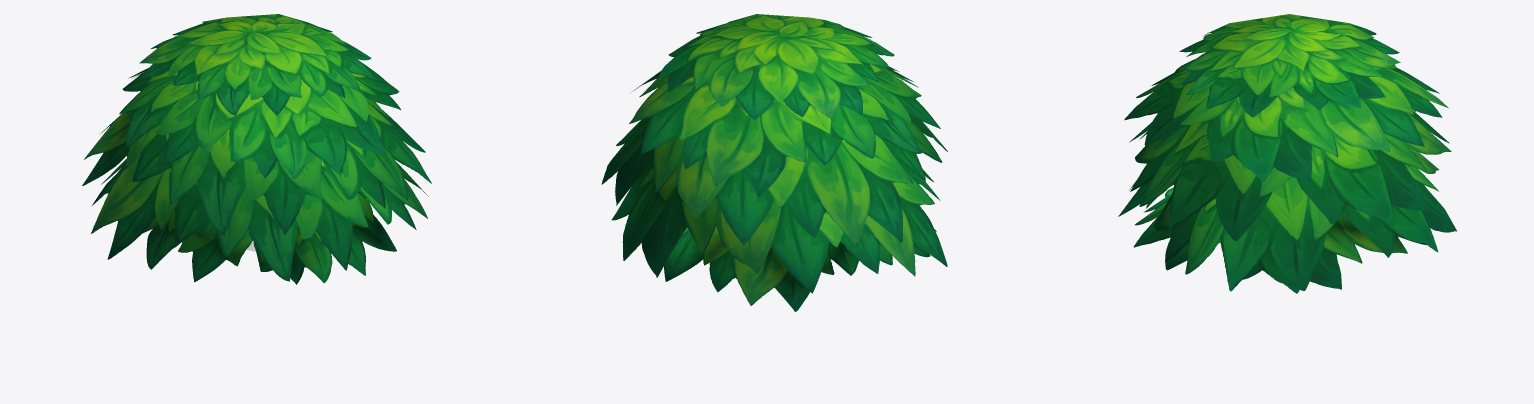
The model's file is Bush.FBX.
The picture shows the model from 3 angles, left to right: view 1: azimuth 30°, elevation 25°; view 2: azimuth 150°, elevation 25°; view 3: azimuth 270°, elevation 25°; orthographic projection. The views are drawn at different scales.
Parts seen in each view (by area): view 1: Leaves; view 2: Leaves; view 3: Leaves.
Part boxes in pixels (x1,y1,x2,y2): Leaves: (82,14,431,284); Leaves: (601,14,947,311); Leaves: (1118,14,1456,293).
Bounding box in the file's own units: 166 × 103 × 165.
